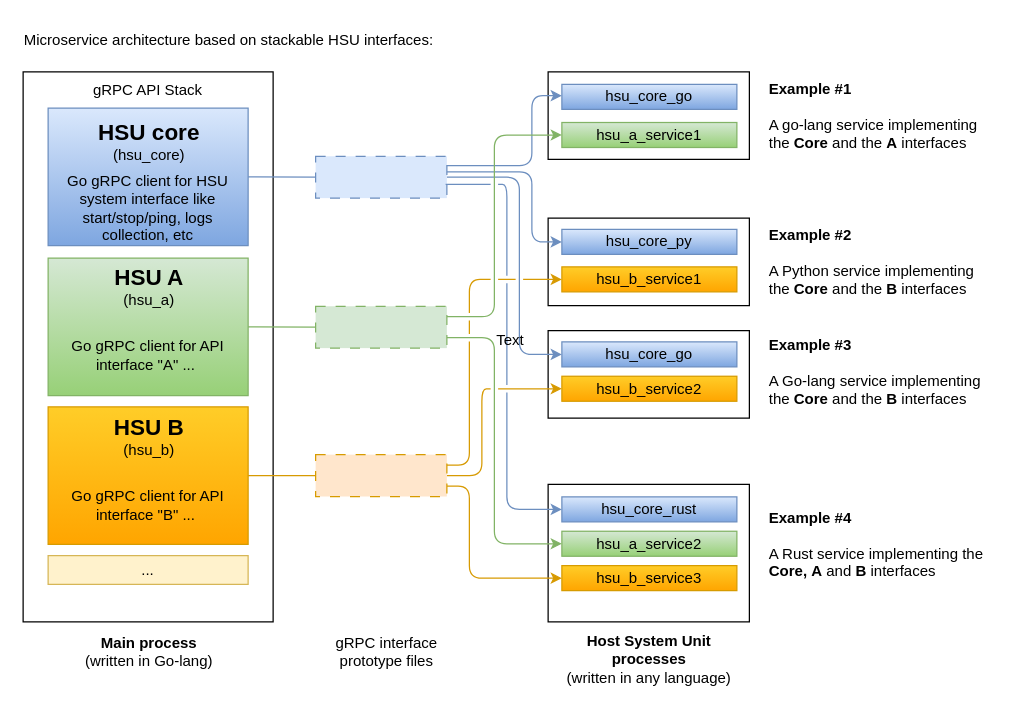
Some shapes in this 1019 by 708 pixel diagram are drawn without their labels. Each missing label, with the centre of its shape:
"A" gRPC proto: [380,326]
"B" gRPC proto: [380,474]
core gRPC proto: [380,176]
